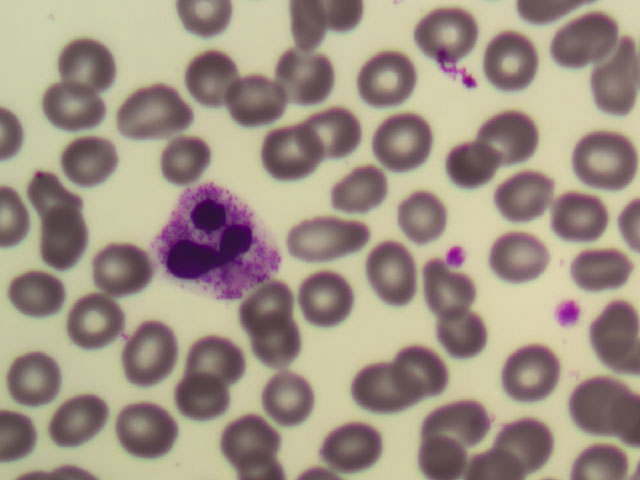Platelets: (552, 299, 587, 327), (442, 237, 471, 269)
RBC: (56, 33, 118, 95), (47, 73, 109, 135), (55, 125, 117, 187), (17, 158, 79, 220), (34, 209, 96, 271), (86, 238, 148, 300), (7, 270, 69, 332), (70, 292, 132, 354), (11, 342, 73, 404), (50, 383, 112, 445), (111, 400, 173, 462), (121, 321, 183, 383), (171, 375, 233, 437), (195, 330, 257, 392), (230, 315, 292, 377), (239, 273, 301, 335), (295, 271, 357, 333), (297, 213, 359, 275), (321, 165, 383, 227), (269, 121, 331, 183), (309, 98, 371, 160), (227, 71, 289, 133), (187, 43, 249, 105), (123, 75, 185, 137), (153, 129, 215, 191), (273, 45, 335, 107), (363, 45, 425, 107), (377, 108, 439, 170), (390, 185, 452, 247), (361, 237, 423, 299), (417, 261, 479, 323), (436, 300, 498, 362), (388, 339, 450, 401), (337, 362, 399, 424), (253, 375, 315, 437), (224, 408, 286, 470), (325, 418, 387, 480), (413, 418, 475, 480), (426, 392, 488, 454), (485, 404, 547, 466), (497, 338, 559, 400), (560, 370, 622, 432), (578, 301, 640, 363), (578, 244, 640, 306), (492, 225, 554, 287), (548, 188, 610, 250), (498, 172, 560, 234), (437, 137, 499, 199), (478, 107, 540, 169), (480, 19, 542, 81), (425, 5, 487, 67), (578, 124, 640, 186), (551, 11, 613, 73), (578, 52, 640, 114)
WBC: (142, 181, 285, 292)
